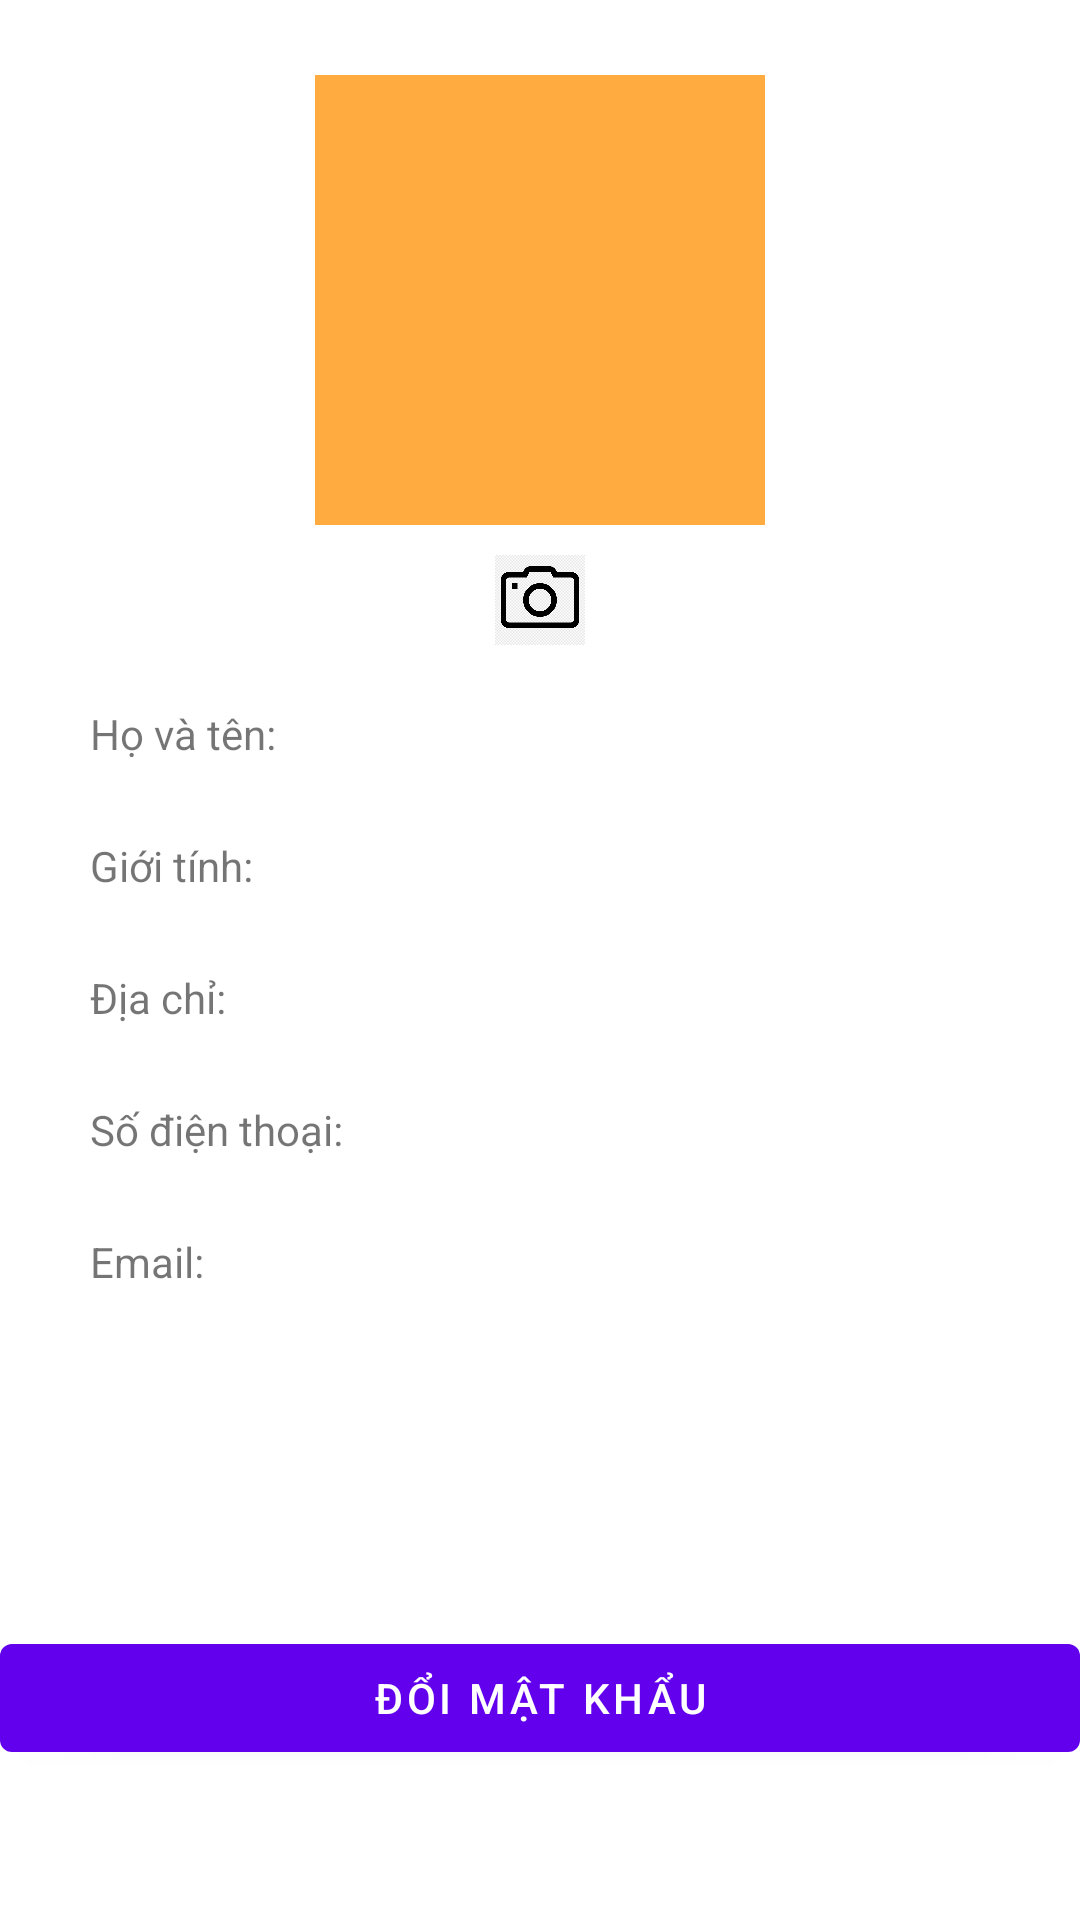

Screen size 1080 × 1920. Icon name, then its center in pixels as [x,y]:
camera: [540,600]
